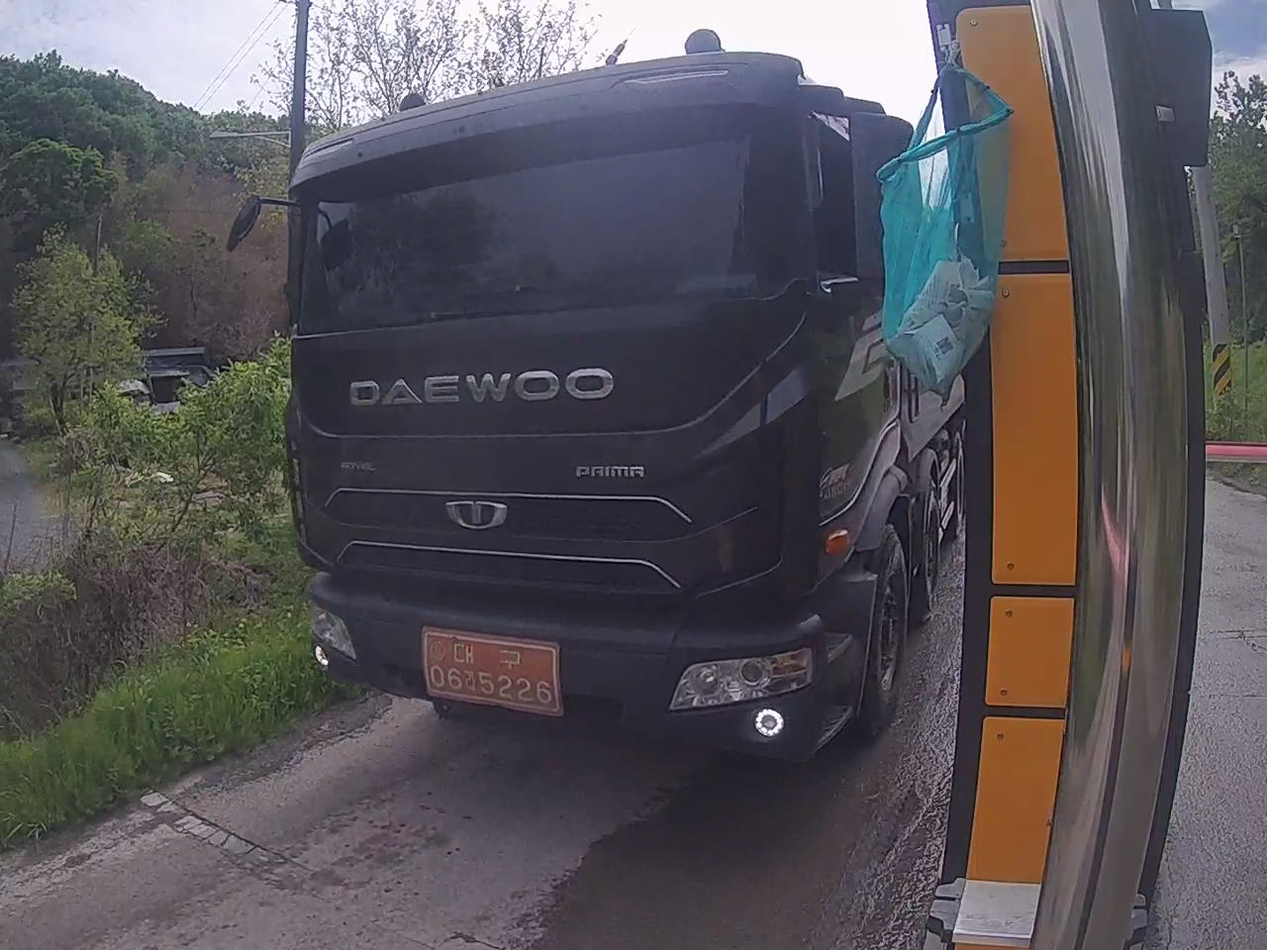license_plate: (423, 627, 562, 716)
truck: (272, 48, 963, 761)
